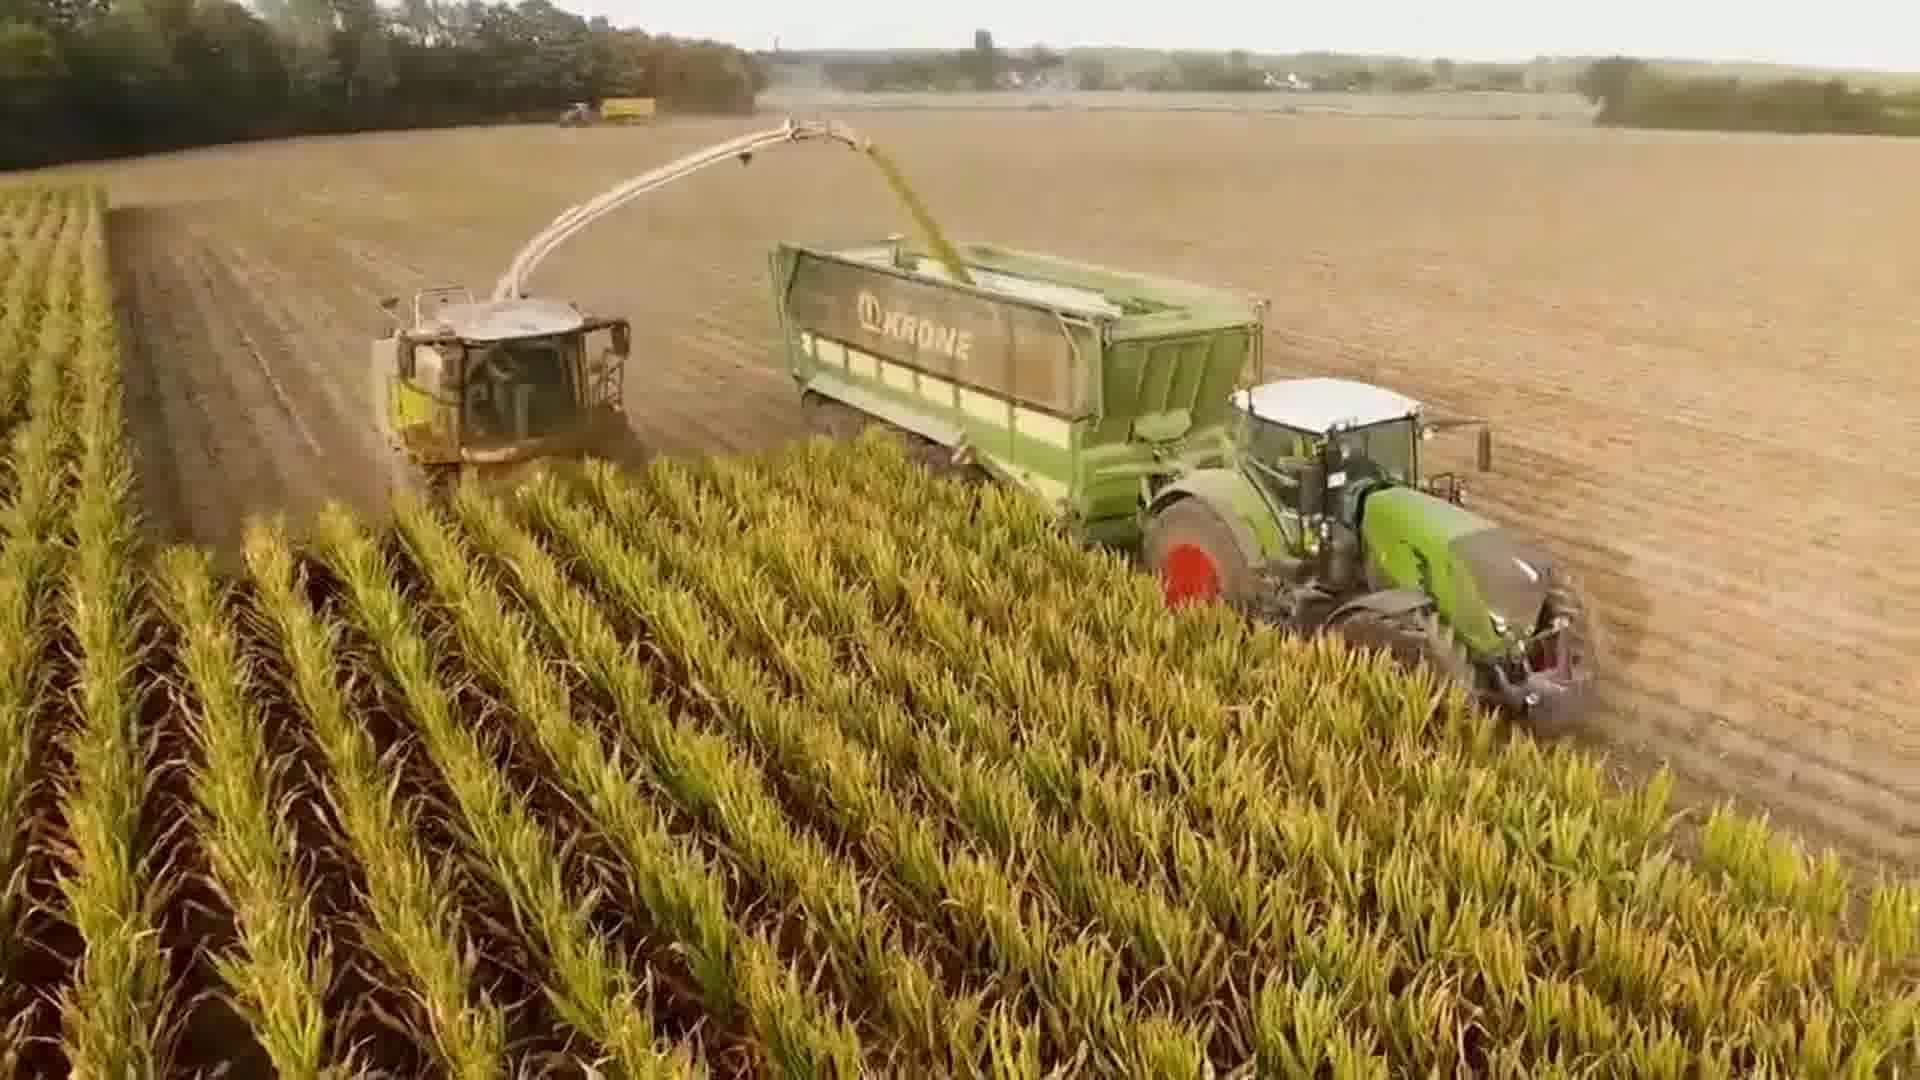combine harvester: (360, 108, 880, 530)
tractor: (1129, 372, 1611, 741), (559, 98, 595, 132)
trailer: (760, 222, 1262, 551), (596, 94, 665, 131)
